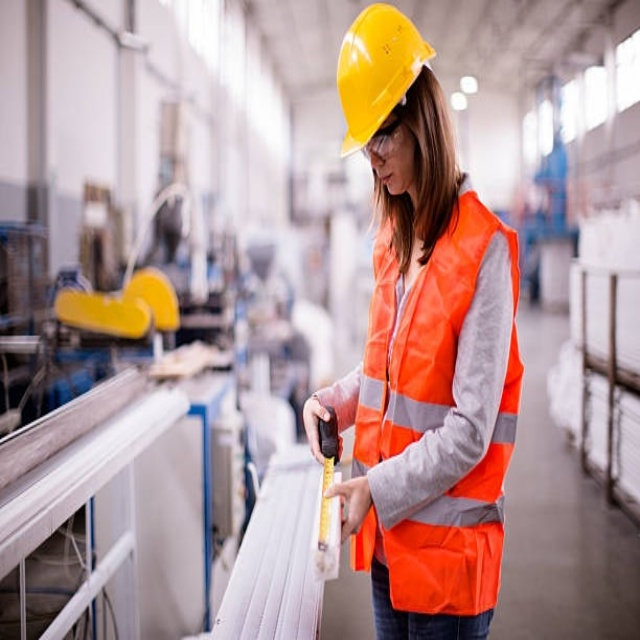Gafas: (362, 114, 405, 162)
Sin_guantes: (322, 472, 373, 549), (302, 394, 341, 470)
Sin_mascara: (373, 160, 404, 198)
